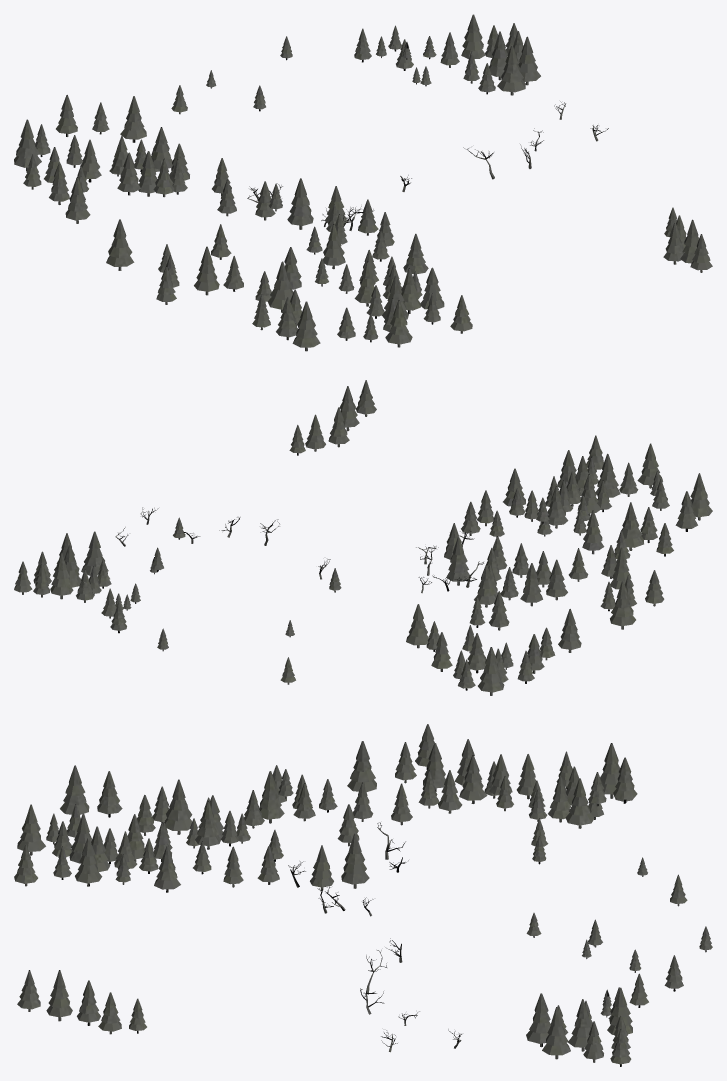
The model's file is forest.glb.
The picture shows the model from 3 angles, top to bottom: view 1: azimuth 30°, elevation 25°; view 2: azimuth 150°, elevation 25°; view 3: azimuth 270°, elevation 25°; orthographic projection. The views are drawn at different scales.
Parts seen in each view (by area): view 1: main; view 2: main; view 3: main.
Boxes of the visible parts, left/top/right/bottom form: main: left=14, top=14, right=712, bottom=351; main: left=14, top=380, right=712, bottom=695; main: left=14, top=724, right=712, bottom=1066.
Bounding box in the file's own units: 193 × 33.15 × 203.
Materials: 1 (1 with a texture image).
